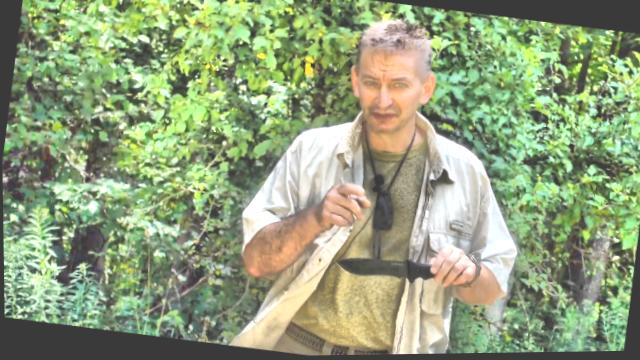knife: (326, 227, 473, 297)
